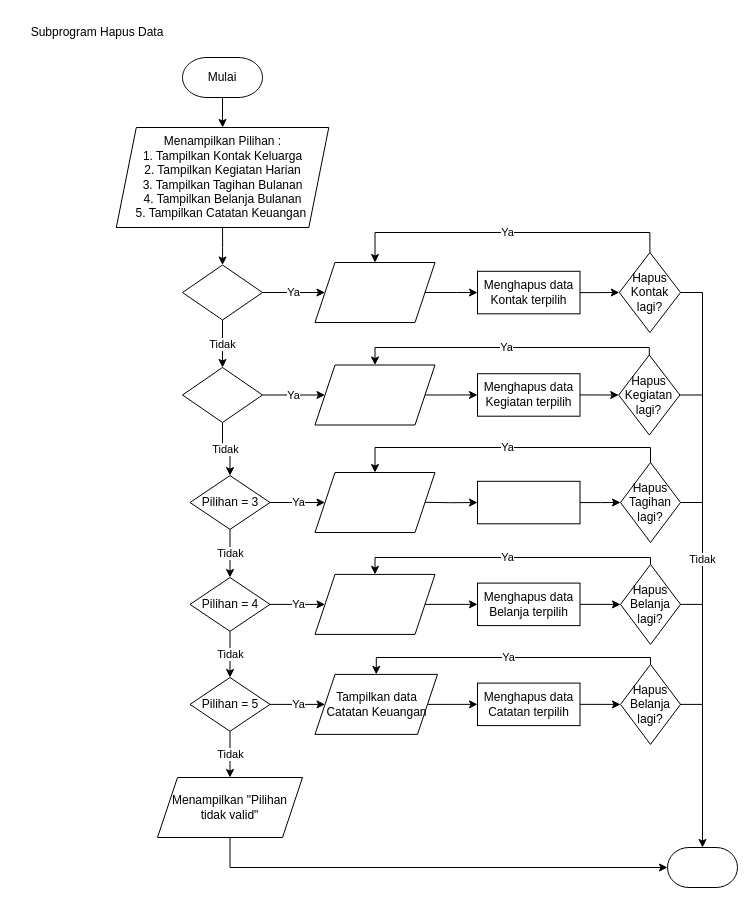
Some shapes in this 755 by 905 pixel diagram are drawn without their labels. The shapes that lost their labels are listed below. From the top down, each one's centre as x and y in pixels, then its label:
the point at 222,292: Pilihan = 1
the point at 374,292: Tampilkan data Kontak Keluarga
the point at 222,394: Pilihan = 2
the point at 374,394: Tampilkan data Kegiatan Harian
the point at 374,502: Tampilkan data Tagihan Bulanan
the point at 528,502: Menghapus data Tagihan terpilih
the point at 374,603: Tampilkan data Belanja Bulanan
the point at 702,867: Selesai
